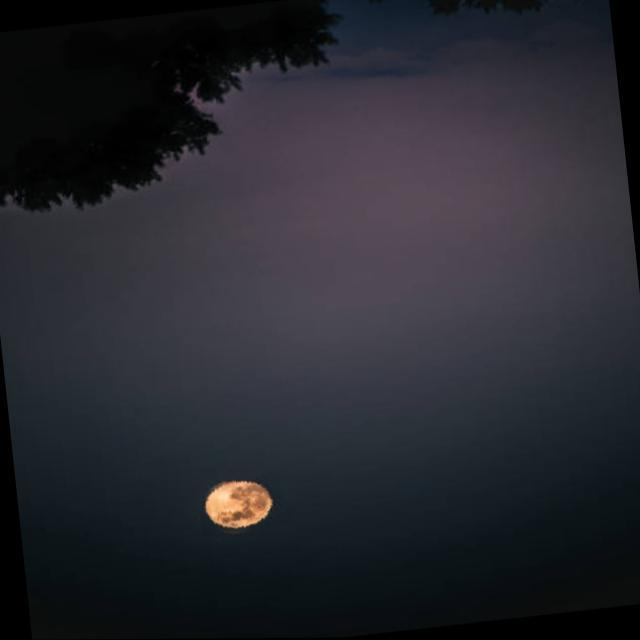moon: (196, 474, 292, 546)
